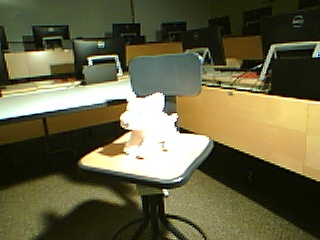piggy: (118, 91, 182, 160)
